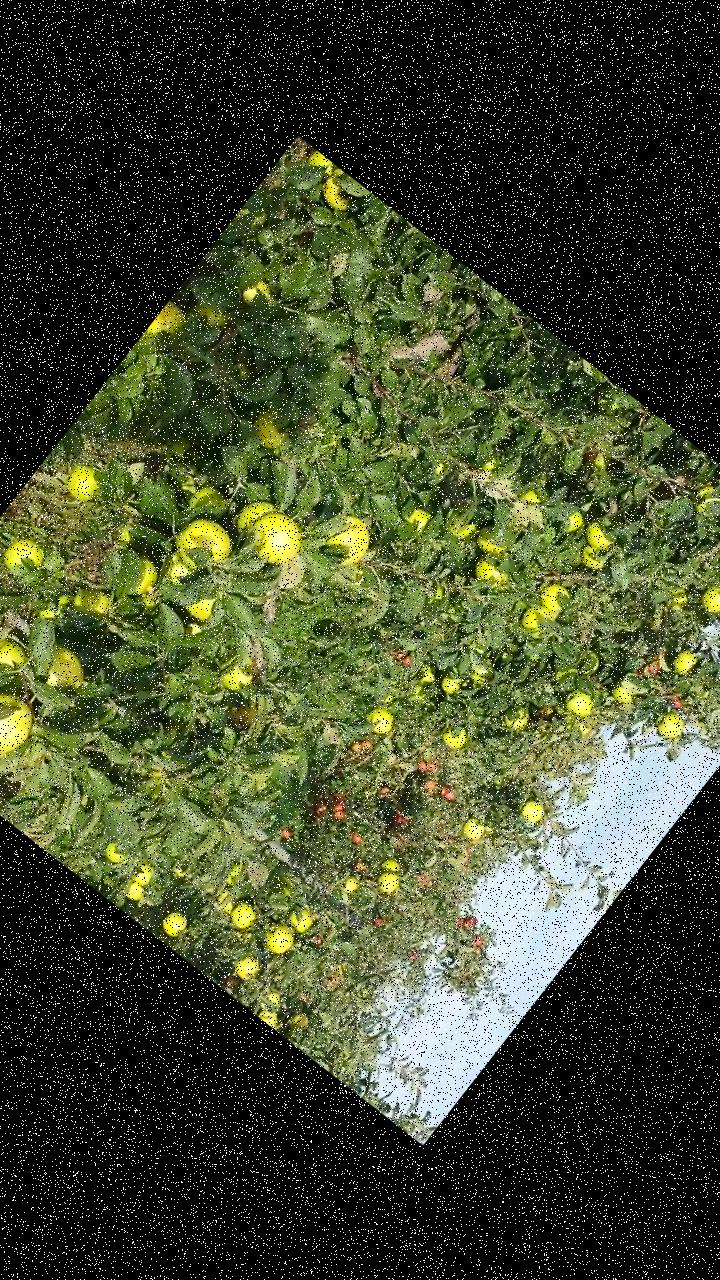Apple: (166, 505, 244, 582), (238, 501, 312, 575), (28, 637, 97, 705), (0, 677, 46, 765), (318, 510, 380, 573), (226, 488, 283, 547), (312, 164, 366, 218), (64, 578, 117, 631), (0, 530, 51, 584), (244, 406, 295, 456), (217, 648, 264, 698), (61, 460, 108, 508), (122, 557, 166, 604), (184, 478, 228, 524), (146, 300, 190, 346), (228, 198, 272, 242), (156, 547, 200, 590), (178, 584, 222, 626), (0, 630, 34, 684), (237, 274, 279, 316), (258, 918, 300, 959), (188, 296, 231, 336), (470, 554, 512, 594), (534, 577, 574, 618), (36, 586, 75, 628), (649, 704, 689, 744), (516, 598, 556, 638), (362, 700, 402, 740), (578, 518, 617, 556), (228, 946, 267, 984), (124, 585, 162, 624), (224, 896, 262, 934), (687, 478, 719, 522), (561, 685, 598, 721), (156, 904, 192, 940), (472, 528, 509, 562), (668, 645, 702, 680), (516, 794, 550, 829), (500, 700, 534, 735), (284, 902, 318, 937), (574, 541, 610, 574), (693, 581, 719, 623), (226, 701, 258, 735), (403, 502, 435, 534), (440, 721, 472, 752), (305, 150, 338, 180), (374, 865, 405, 896), (608, 678, 640, 708), (556, 508, 586, 540), (212, 882, 242, 914), (516, 484, 548, 514), (450, 512, 480, 544), (98, 838, 130, 868), (458, 814, 488, 844), (664, 586, 692, 616), (128, 860, 156, 889), (552, 660, 580, 688), (255, 1003, 283, 1030), (414, 662, 442, 689), (378, 854, 405, 880), (438, 670, 464, 697), (124, 877, 150, 904), (221, 860, 246, 888), (286, 1006, 312, 1032), (477, 451, 501, 476), (339, 873, 362, 897), (115, 524, 137, 546), (470, 666, 491, 688), (265, 988, 286, 1008)
